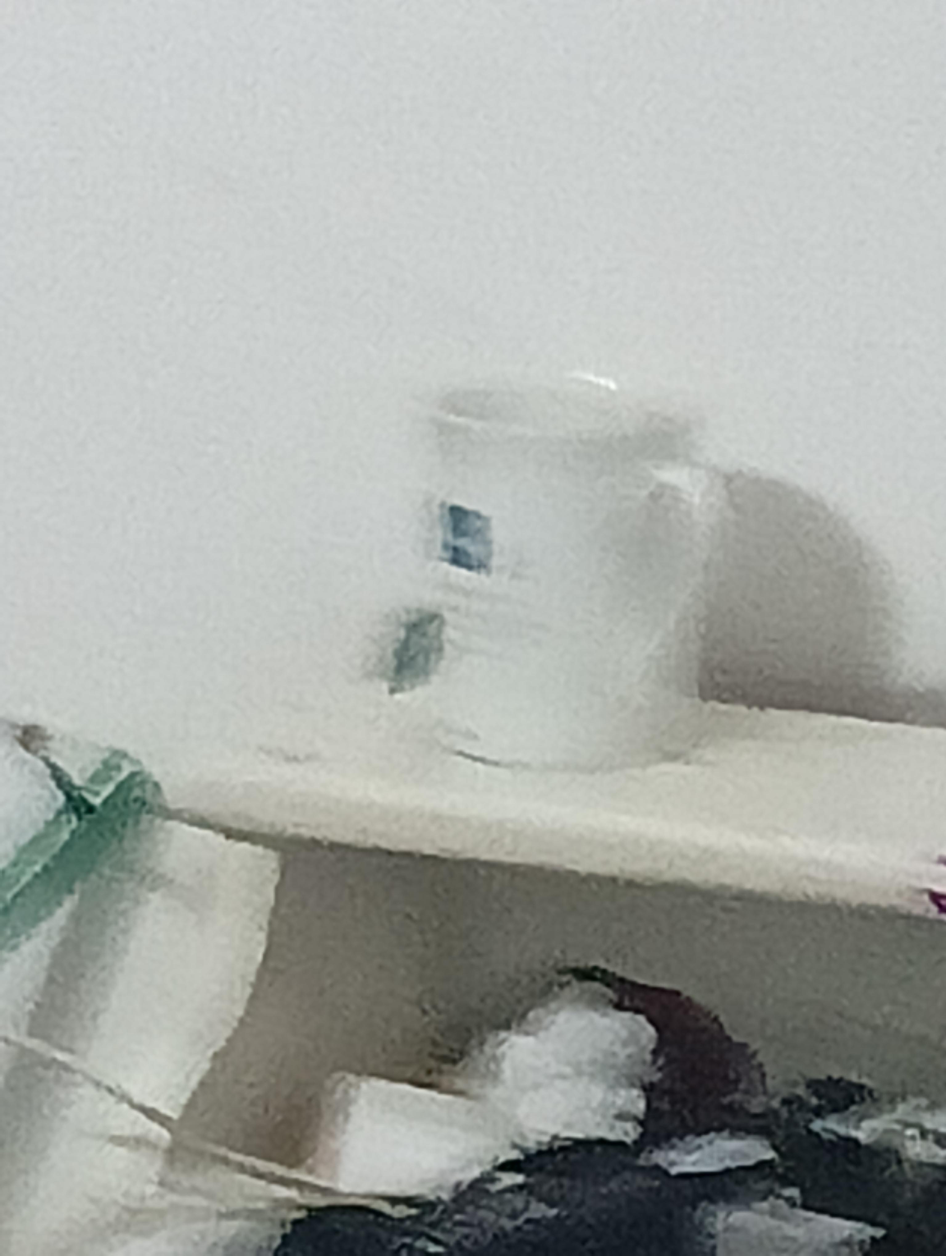cup: (388, 376, 719, 771)
